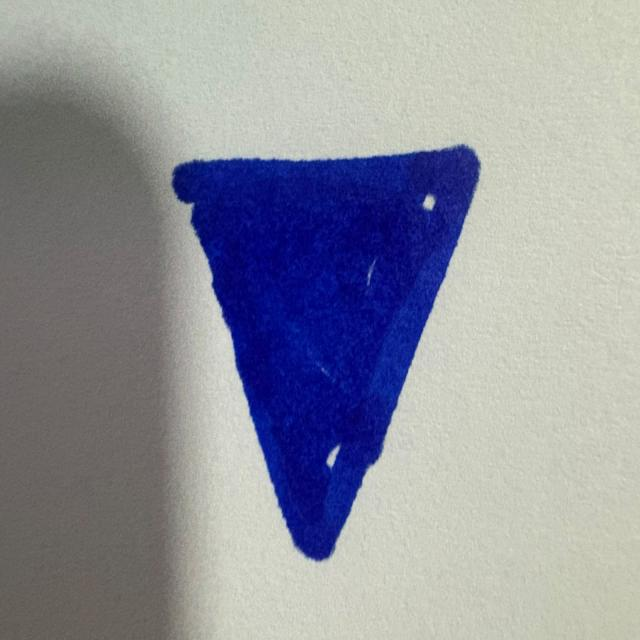Triangle: (172, 146, 480, 560)
